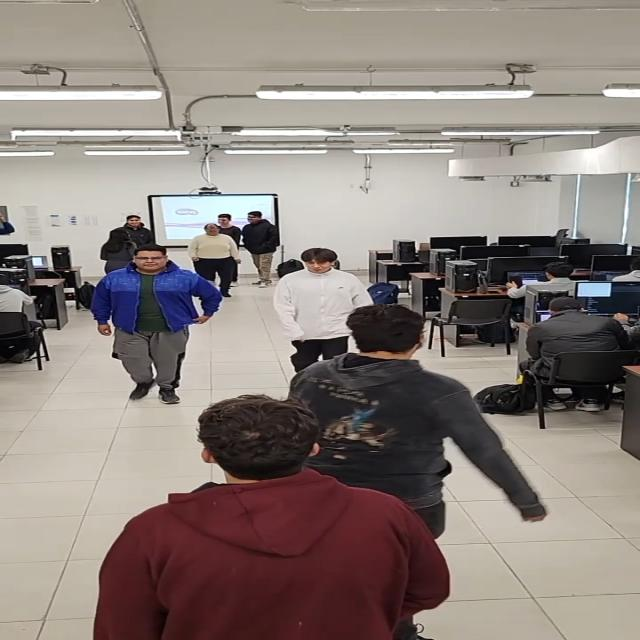Persona: (99, 395, 454, 640), (299, 303, 520, 473), (90, 246, 188, 404), (280, 245, 357, 358), (186, 221, 235, 299), (244, 212, 277, 288), (102, 232, 130, 266), (117, 212, 150, 238), (218, 213, 240, 231)
